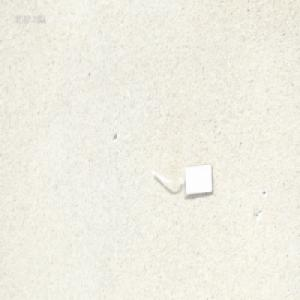LuggageTag: (150, 162, 213, 199)
